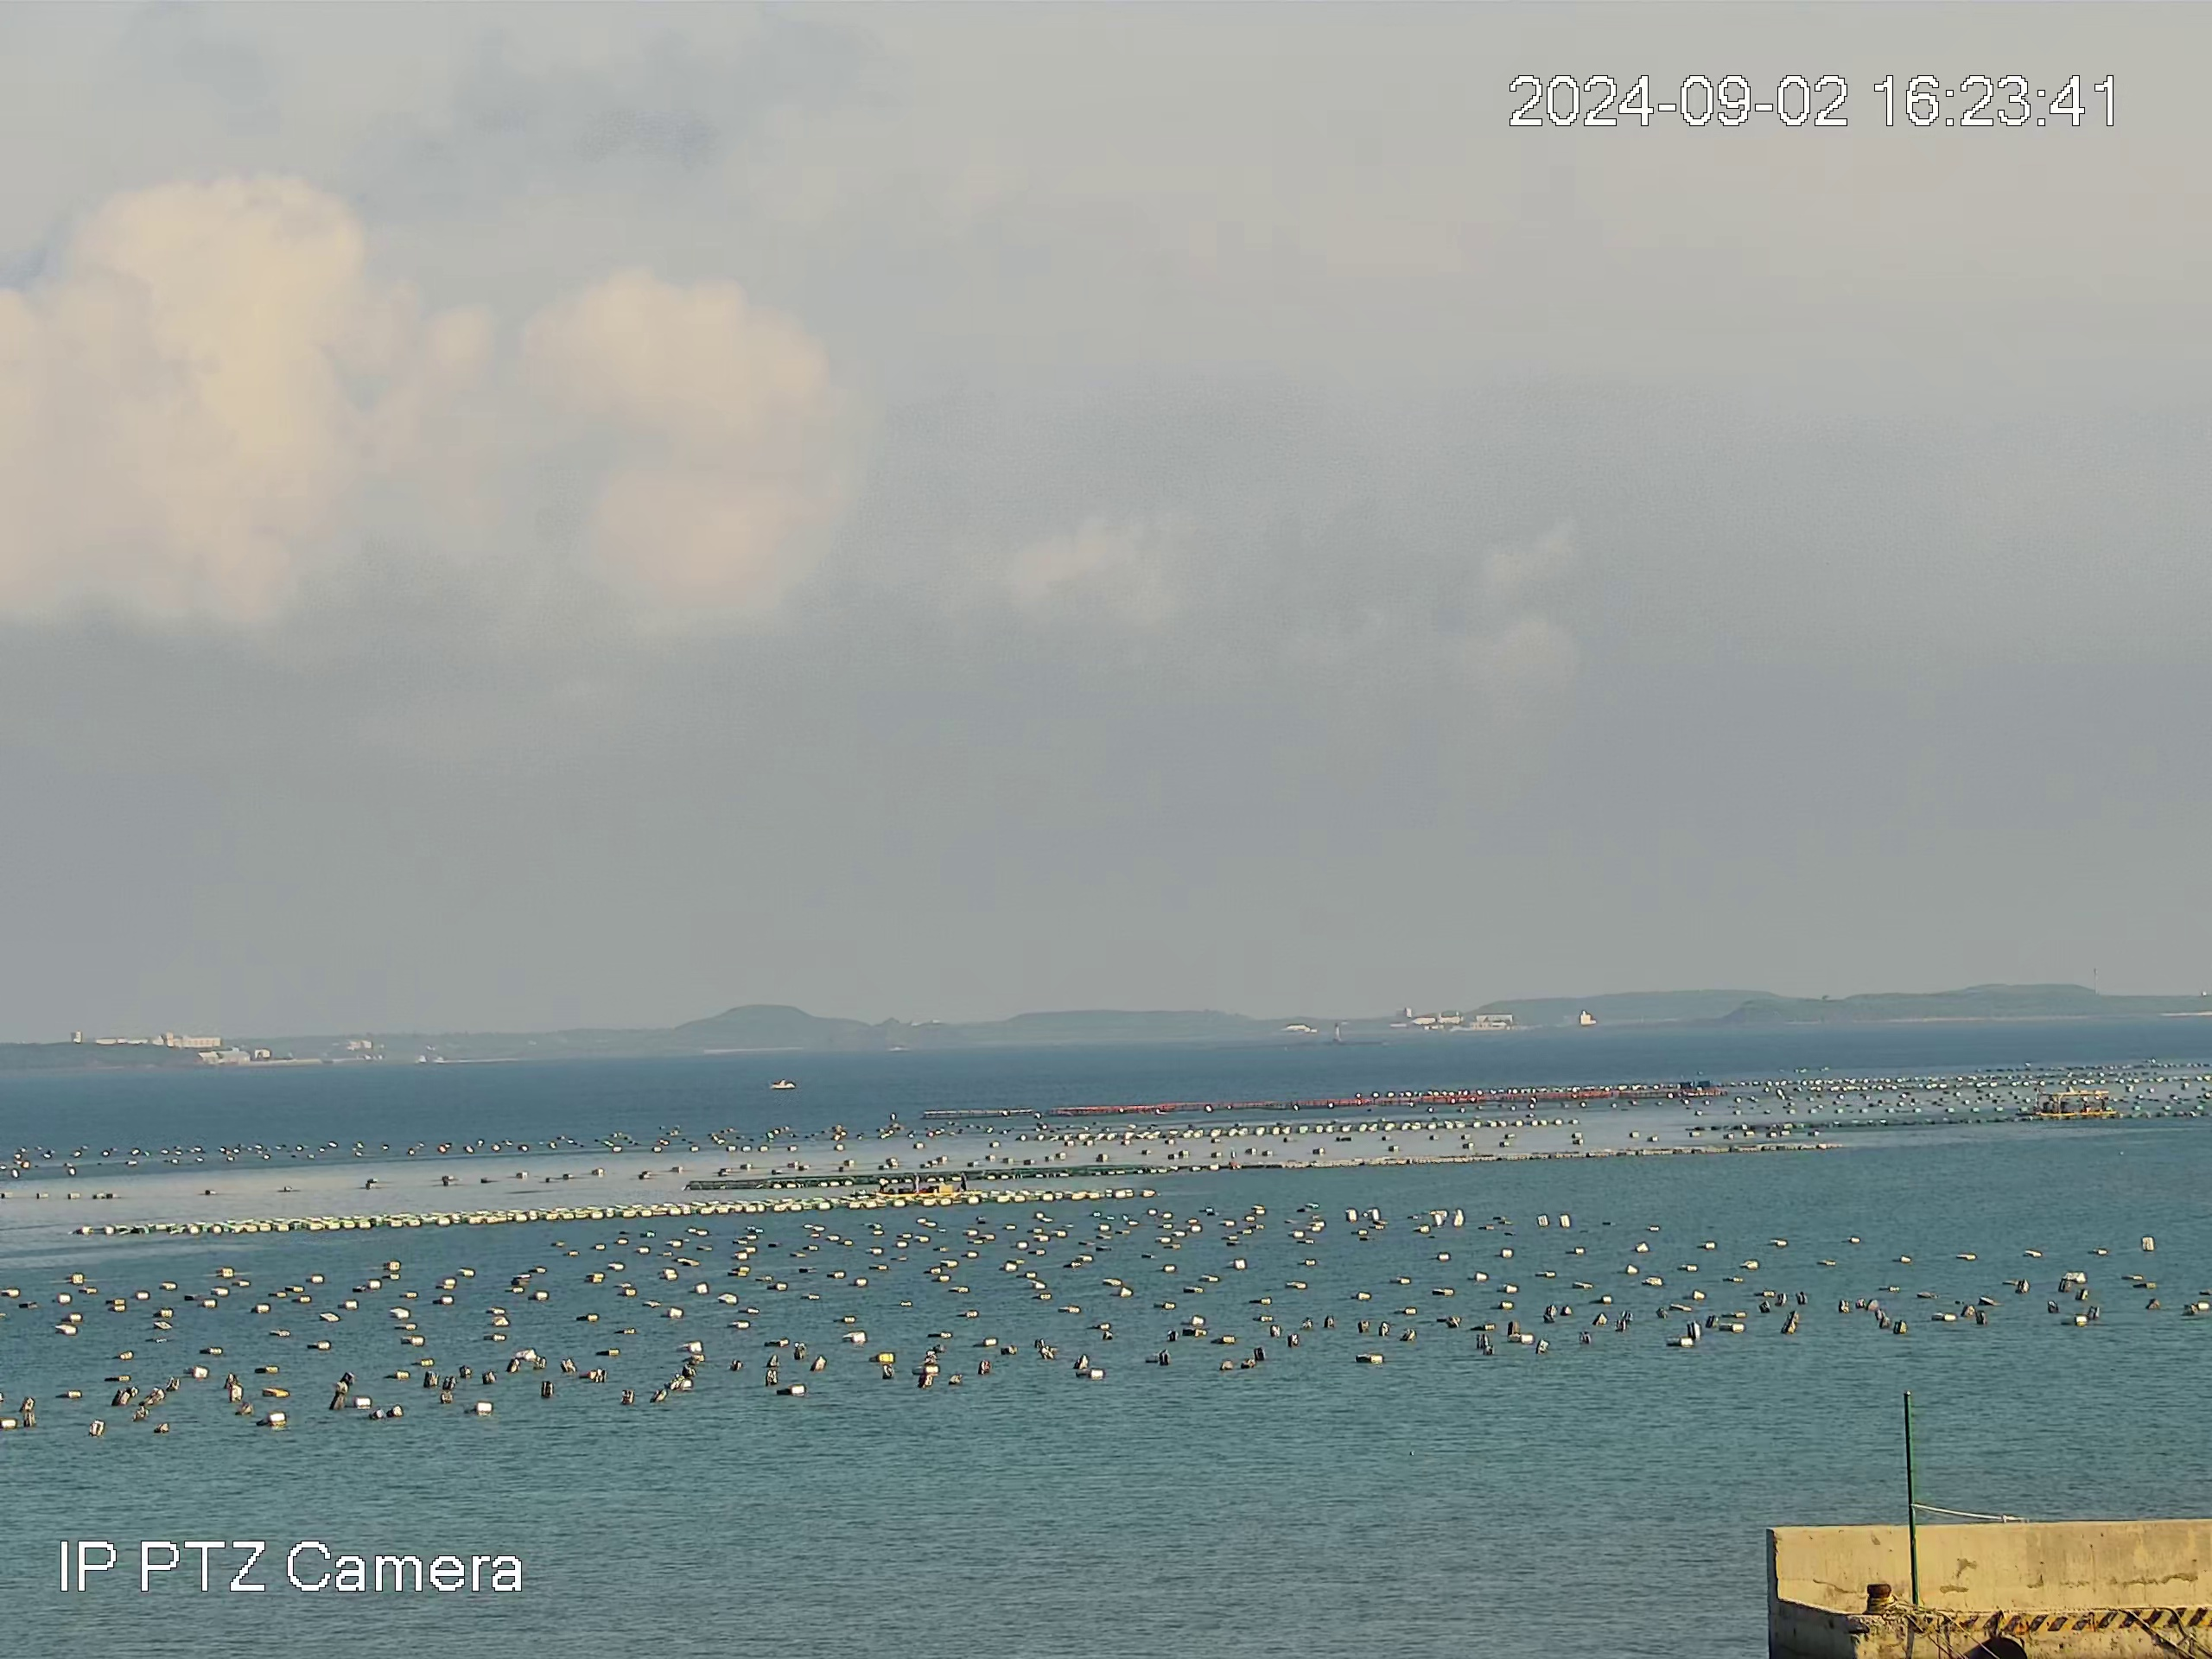boat: (873, 1171, 982, 1197), (2031, 1089, 2118, 1121), (768, 1077, 796, 1091)
